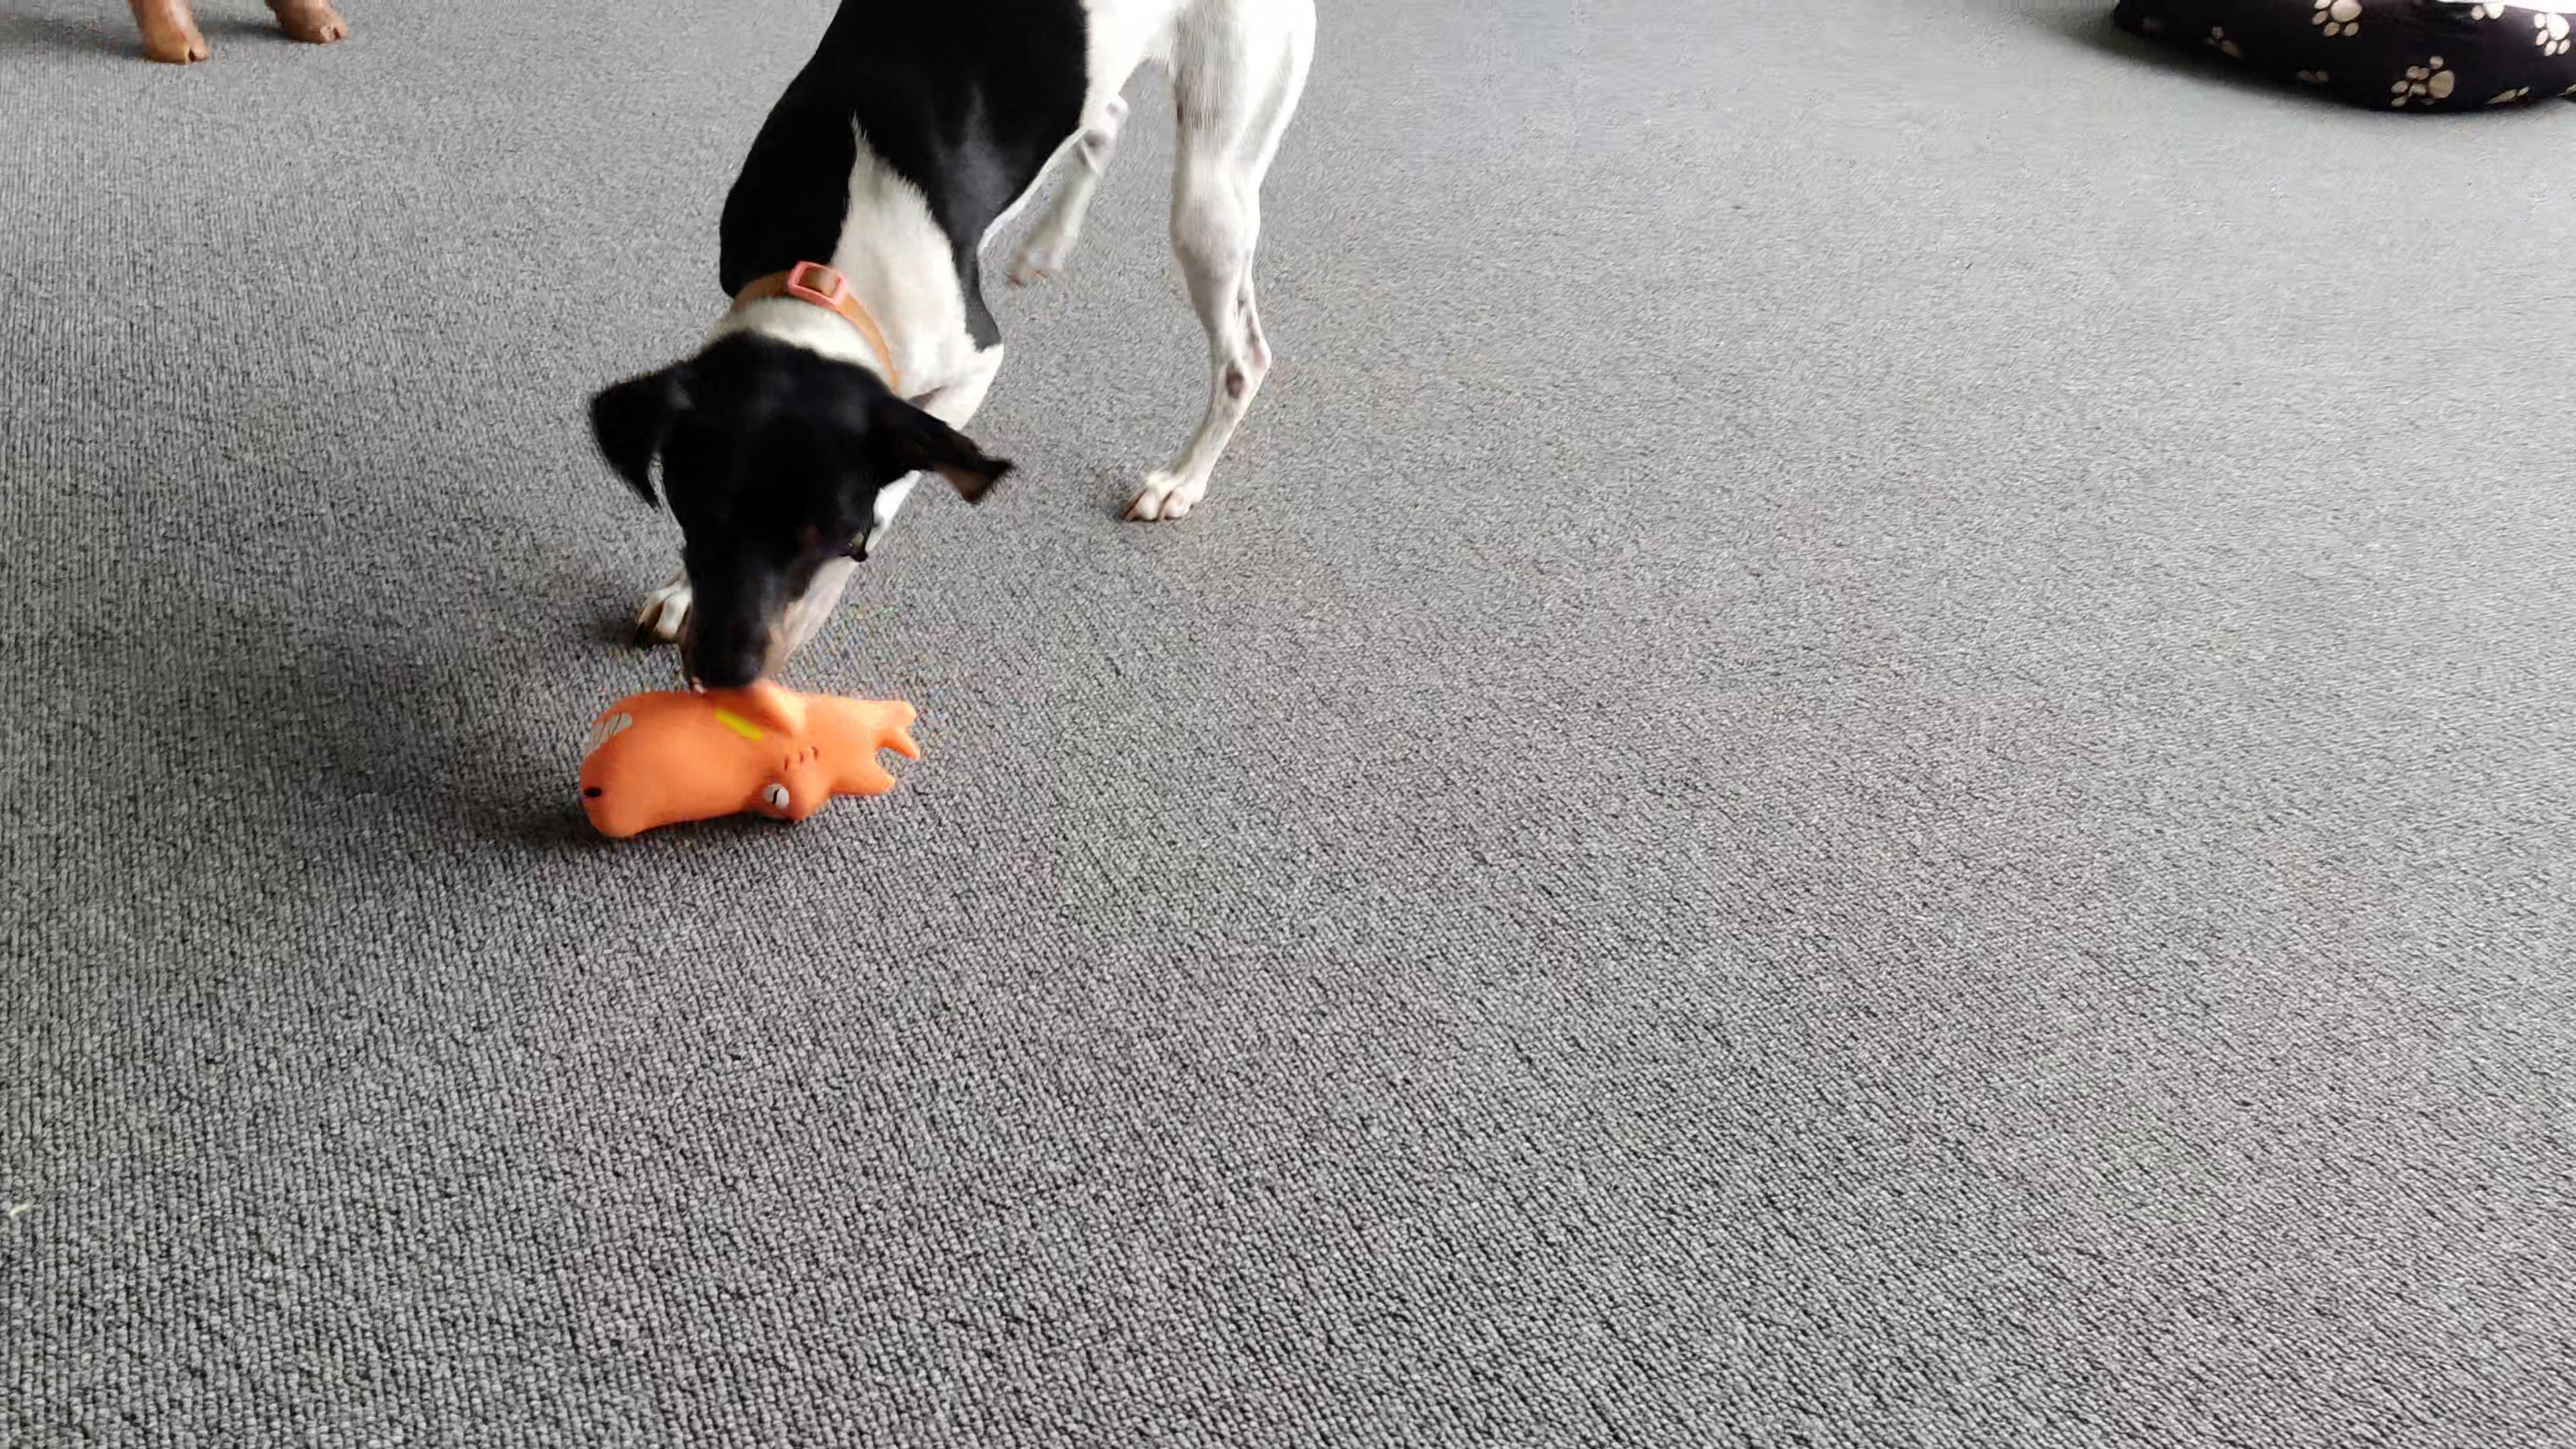Dog: (575, 0, 1334, 699)
